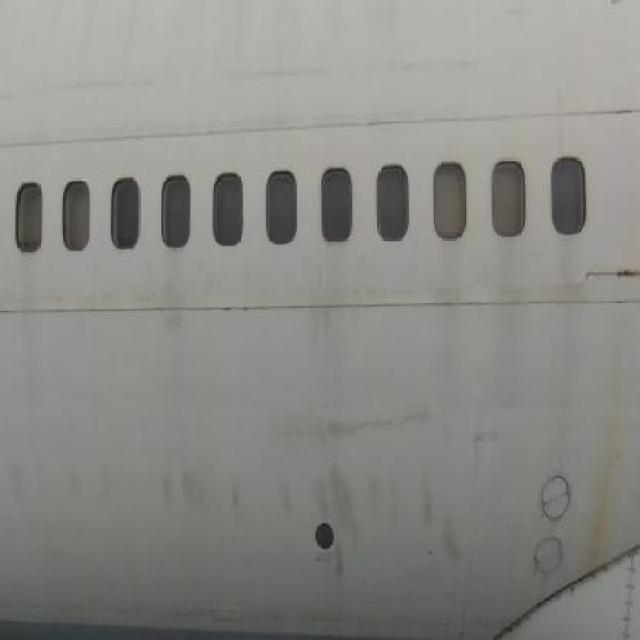Rust: (580, 383, 640, 585)
Scartch: (274, 459, 466, 606), (1, 66, 161, 122), (277, 402, 438, 456), (154, 450, 248, 539), (211, 52, 335, 102), (378, 46, 490, 91), (60, 449, 117, 525), (3, 447, 40, 528), (470, 418, 505, 476)
